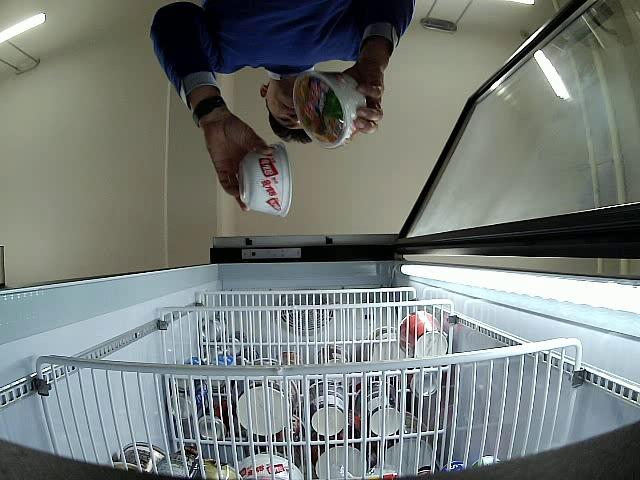00_hand: (204, 105, 275, 211), (343, 55, 389, 133)
09_yukGaeJang: (294, 72, 365, 149), (239, 141, 291, 217)
